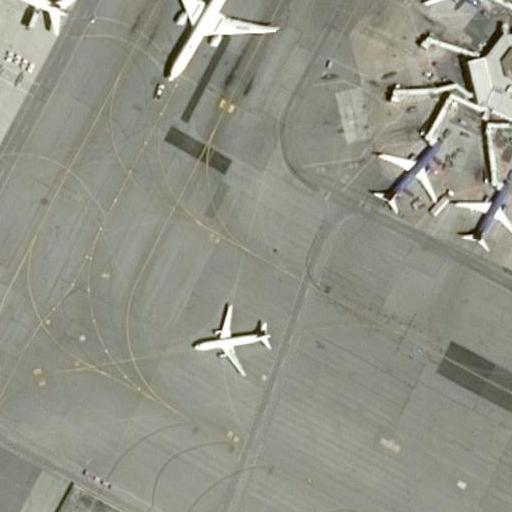Aircraft: (151, 0, 278, 89), (195, 301, 271, 368), (372, 141, 431, 215), (449, 180, 512, 246), (0, 0, 74, 47), (410, 0, 485, 15)
